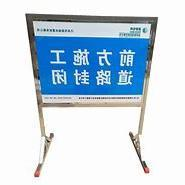sign: (33, 24, 151, 104)
